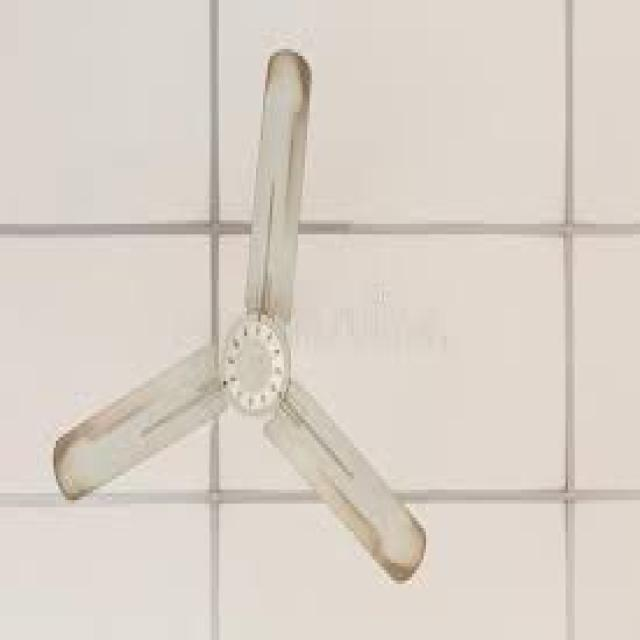fan_off: (54, 51, 426, 586)
